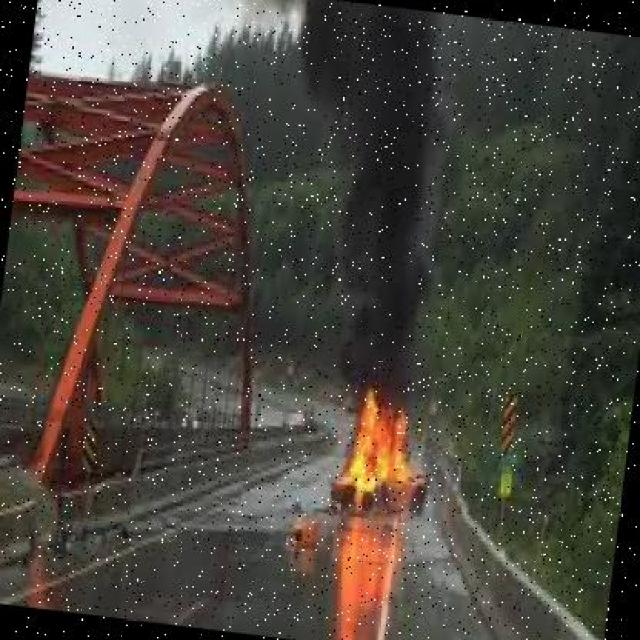fire: (320, 376, 446, 532)
